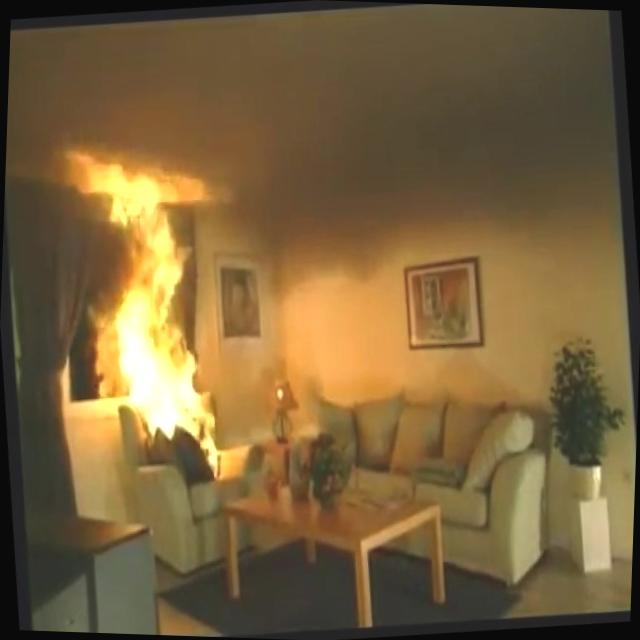fire: (68, 164, 240, 456)
smoke: (188, 0, 624, 253)
